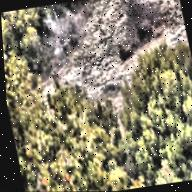boar: (106, 30, 139, 66)
